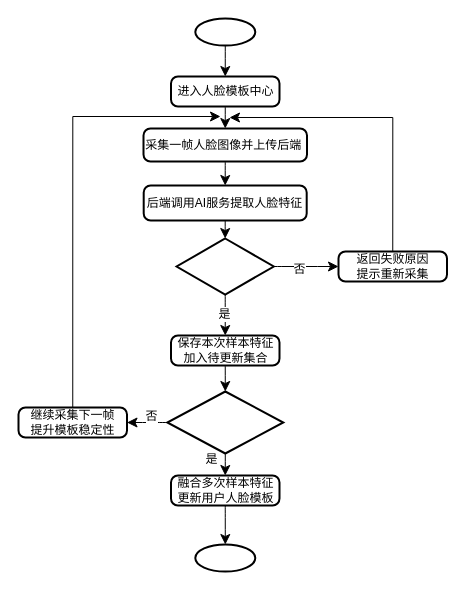
This 465x589 diagram has some shape labels left out. Here are the shapes that lost their labels. From the top down, the box of each, then its label:
(194, 17, 256, 46): 开始
(175, 237, 274, 295): 是否检测到 有效人脸
(166, 390, 284, 454): 样本数量是否 满足要求？
(194, 543, 256, 572): 结束
